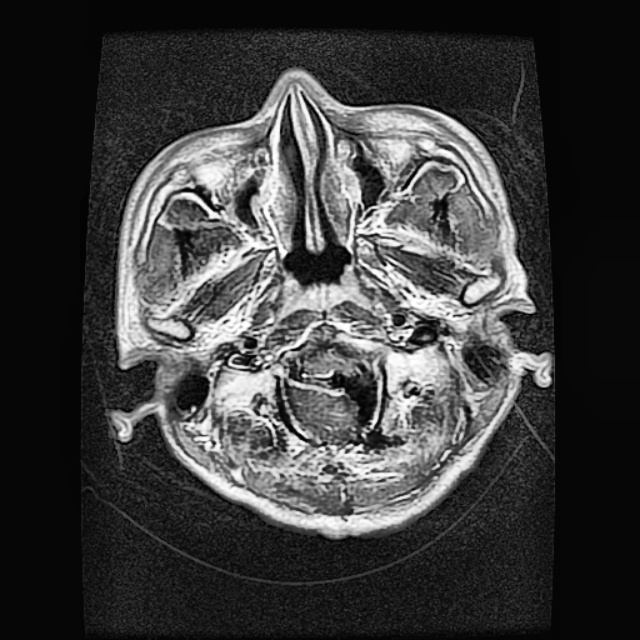Glioma: (334, 369, 377, 423)
